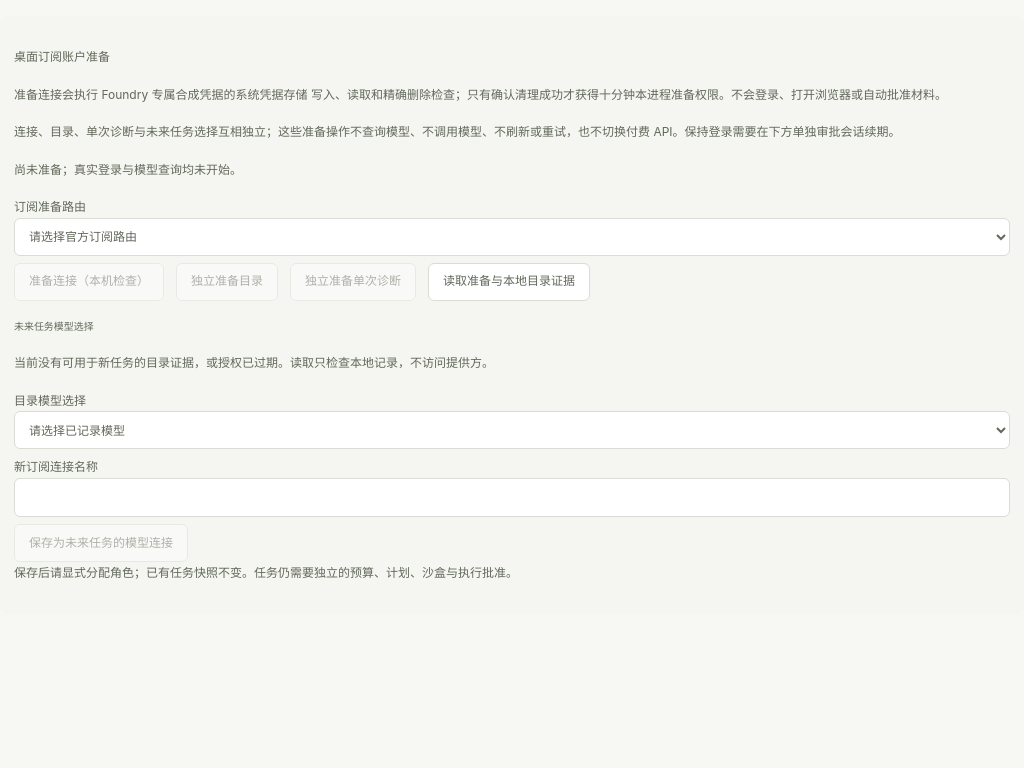
Test: desktop subscription preparation › reads metadata only; preparation does not approve, execute or open a browser
The image size is (1024, 768).
Expected: the text "尚未准备；真实登录与模型查询均未开始。" is shown, [14, 162, 242, 177]
Expected: the text "Foundry 专属合成凭据" is shown, [14, 86, 947, 102]
Select "r · subscription_only" in the dropdown labelled "订阅准备路由" at (512, 237), box [14, 218, 1010, 256]
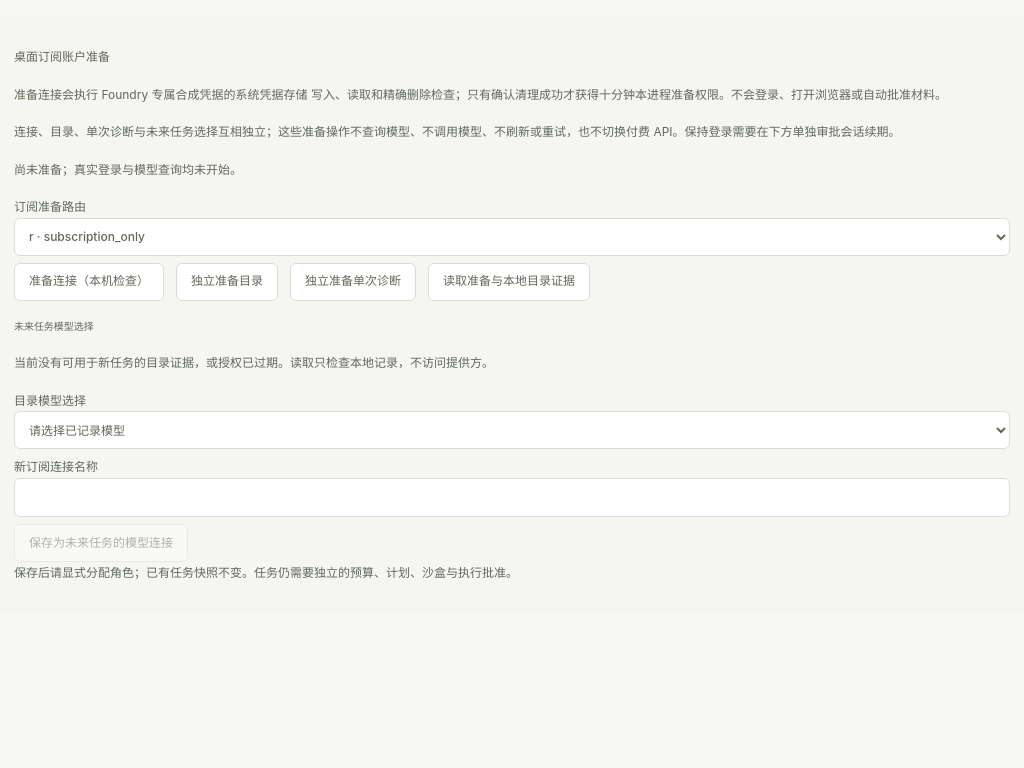
Click the button "准备连接（本机检查）" at (89, 282), box [14, 263, 164, 301]
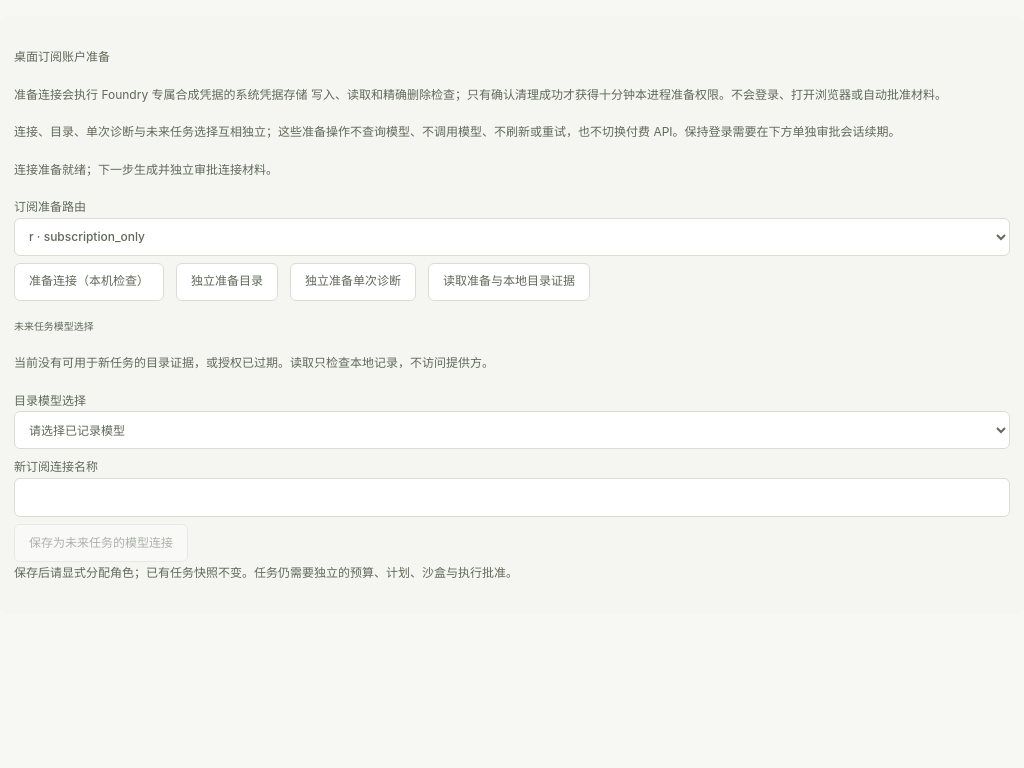
Expected: the text "连接准备就绪；下一步生成并独立审批连接材料。" is shown, [14, 162, 278, 177]
